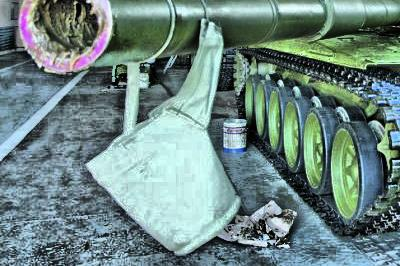tanks: (21, 1, 400, 236)
